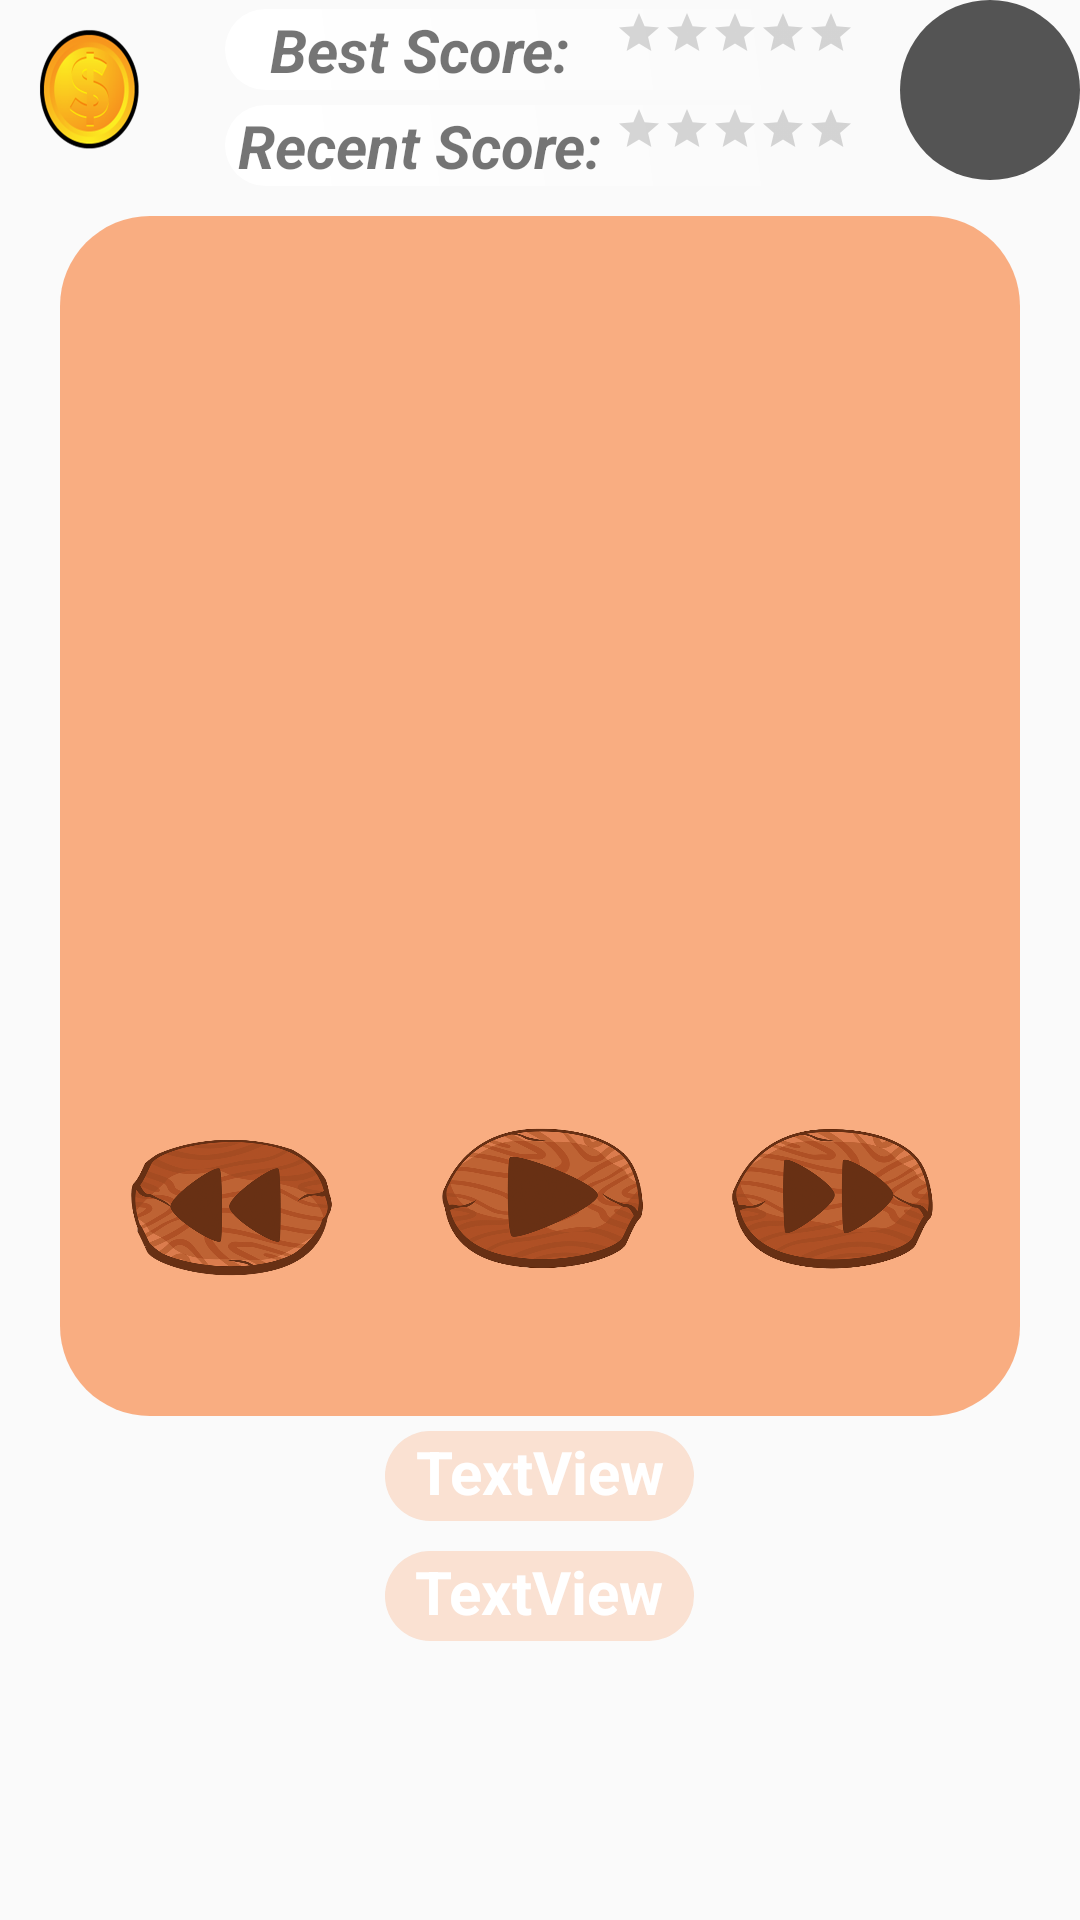

Icon click points for this 1080px×1920px phone screenshot, format (x=x, y=y):
back: (x=231, y=1207)
goldentoken: (x=89, y=89)
next: (x=832, y=1199)
start: (x=542, y=1198)
